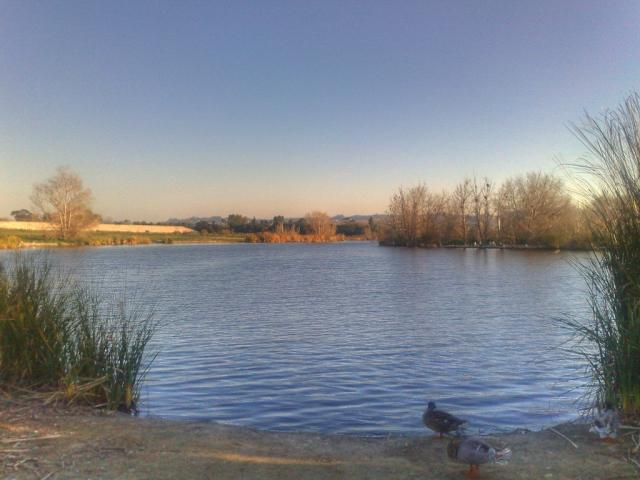Bird: (440, 428, 515, 478), (422, 402, 464, 440)
